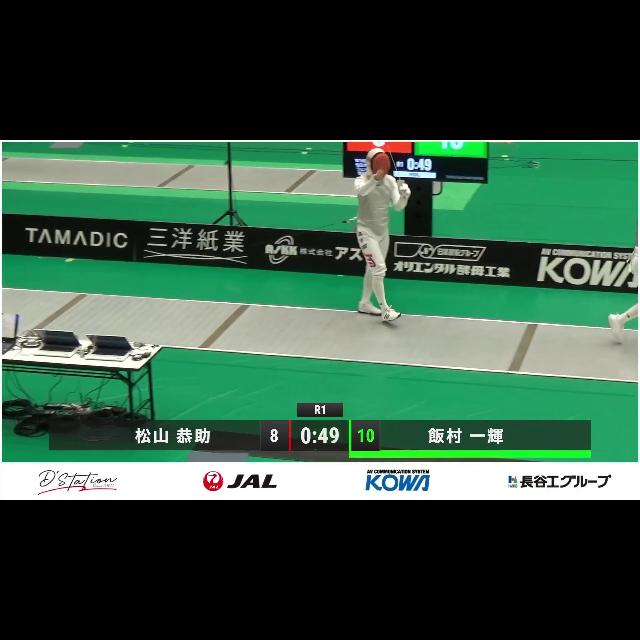blade: (379, 140, 415, 193)
